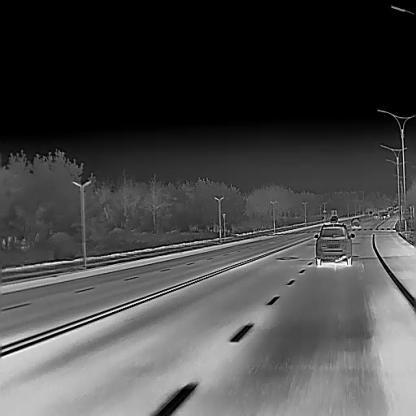car: (313, 222, 355, 265), (351, 217, 360, 226), (330, 214, 338, 222), (368, 209, 372, 214), (382, 213, 386, 218), (374, 213, 378, 217)
